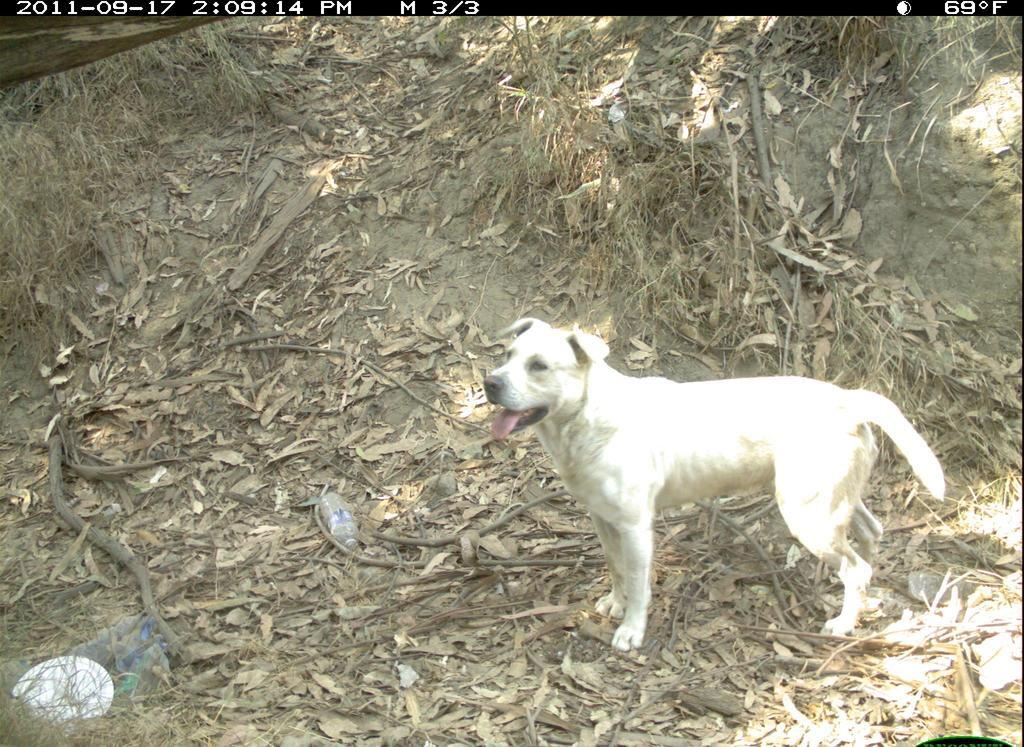dog: (473, 305, 969, 670)
